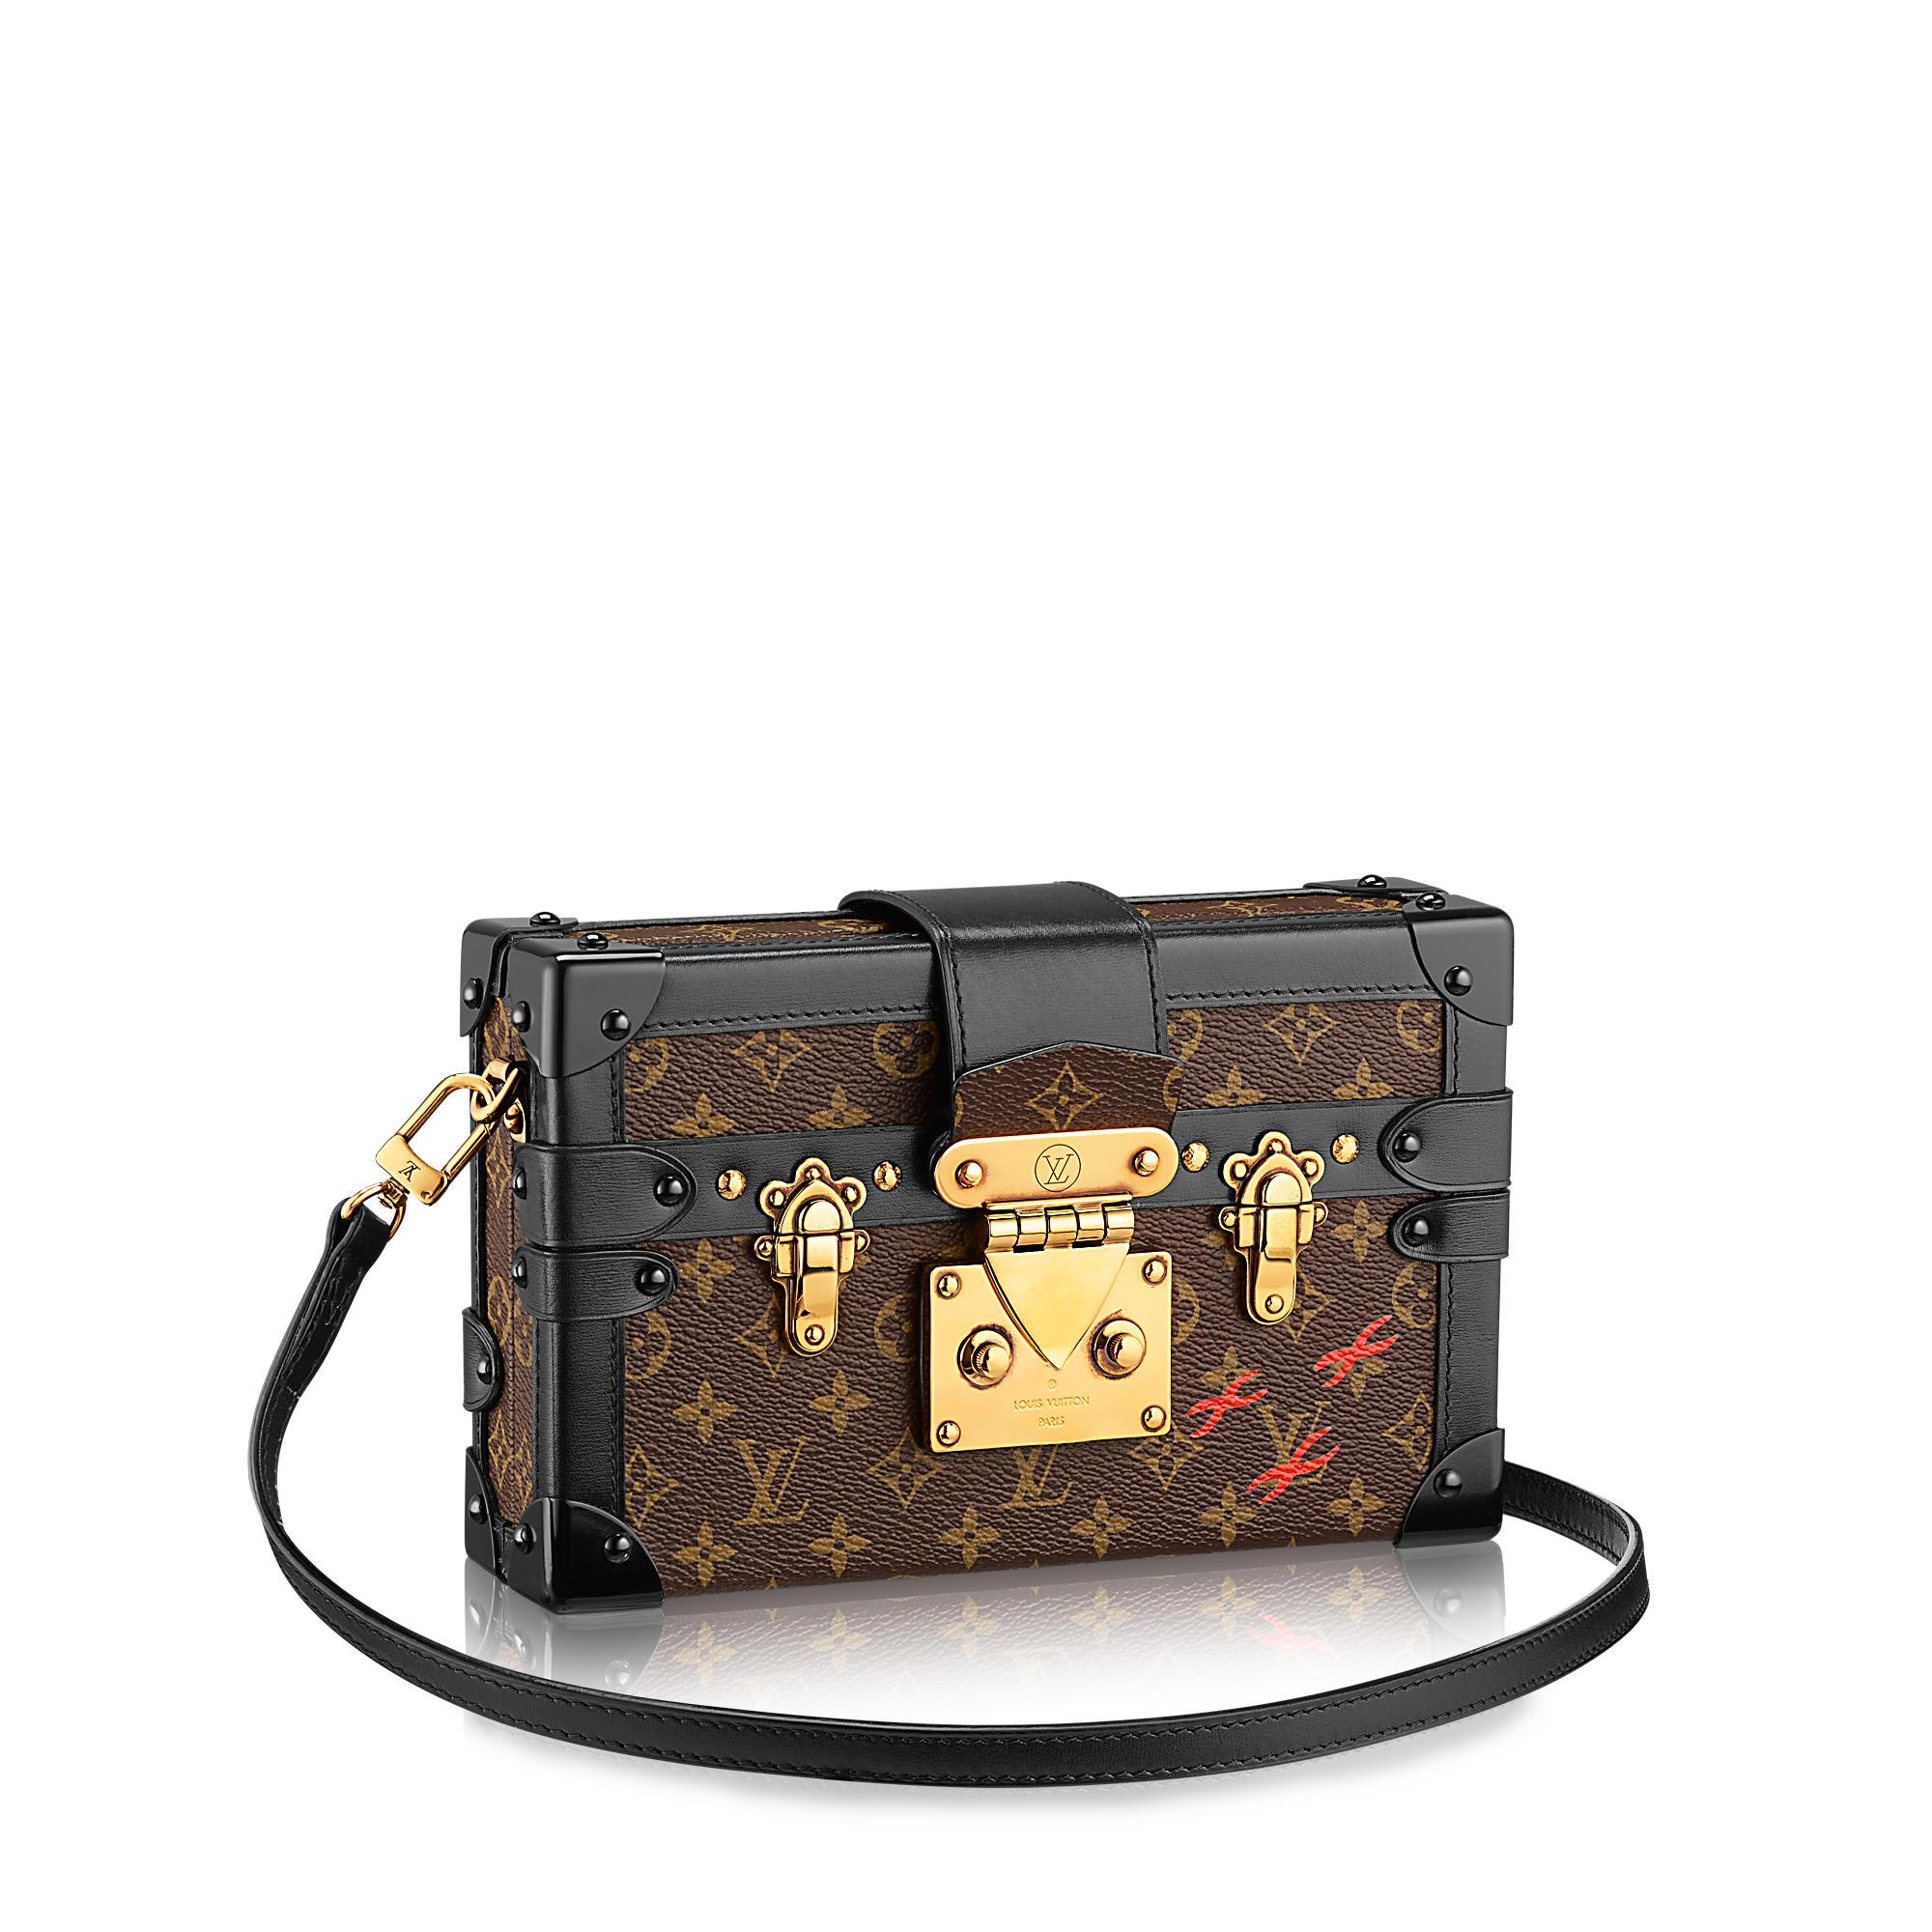LOUIS-VUITTON: (720, 1433, 816, 1532), (1261, 1398, 1332, 1497), (993, 1444, 1077, 1514), (1033, 1143, 1081, 1191)
